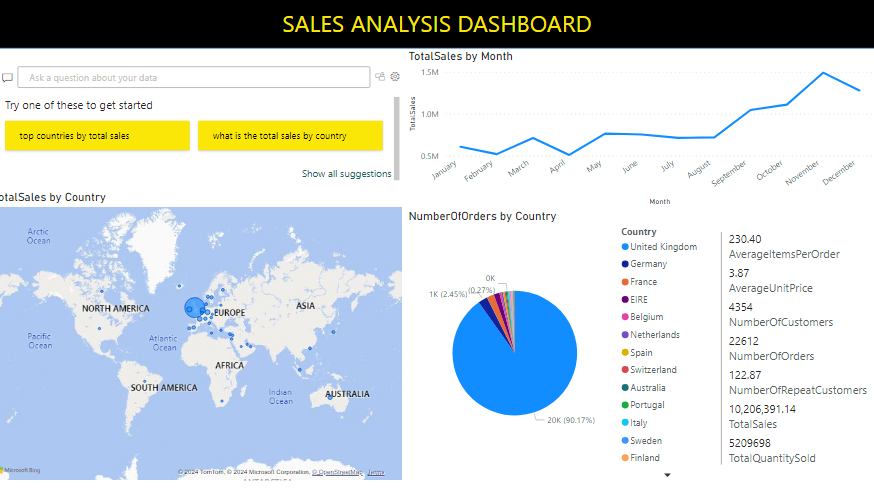

Layout of this report page (visuals, bound fields, positions):
{"tool":"powerbi","page":{"name":"Sales Analysis Dashboard","canvas":[1280,720],"ordinal":0},"visuals":[{"type":"shape","box":[10,0,1270,75.6],"z":0},{"type":"qnaVisual","box":[9.5,75.8,590.3,203.6],"z":2000},{"type":"map","fields":{"Category":["data (2).Country"],"Size":["data (2).TotalSales"]},"box":[0,279.4,599.8,423],"z":2001},{"type":"multiRowCard","fields":{"Values":["data (2).AverageItemsPerOrder","data (2).AverageUnitPrice","data (2).NumberOfCustomers","data (2).NumberOfOrders","data (2).NumberOfRepeatCustomers","data (2).TotalSales","data (2).TotalQuantitySold"]},"box":[1047.7,333.4,232.3,350.7],"z":2002},{"type":"pieChart","fields":{"Category":["data (2).Country"],"Y":["data (2).NumberOfOrders"]},"box":[599.8,306.2,448.2,396.2],"z":2003},{"type":"lineChart","fields":{"Category":["data (2).InvoiceDate.Variation.Date Hierarchy.Month","data (2).InvoiceDate.Variation.Date Hierarchy.Day"],"Y":["data (2).TotalSales"]},"box":[599.8,75.8,680.2,230.4],"z":2004}]}

Visuals, with their boxes in screenshot pixels (x1, y1, x2, y2), scaled from the page's 1280x720 canvas onto the 874x490 screenshot:
shape: 7, 0, 873, 51
qnaVisual: 6, 52, 410, 190
map - data (2).Country x data (2).TotalSales: 0, 190, 410, 478
multiRowCard - data (2).AverageItemsPerOrder x data (2).AverageUnitPrice: 715, 227, 873, 466
pieChart - data (2).Country x data (2).NumberOfOrders: 410, 208, 716, 478
lineChart - data (2).InvoiceDate.Variation.Date Hierarchy.Month x data (2).InvoiceDate.Variation.Date Hierarchy.Day: 410, 52, 873, 208
